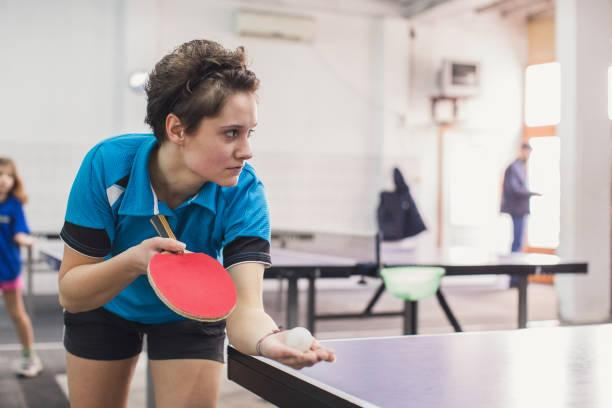ball_pingpong: (286, 326, 313, 352)
